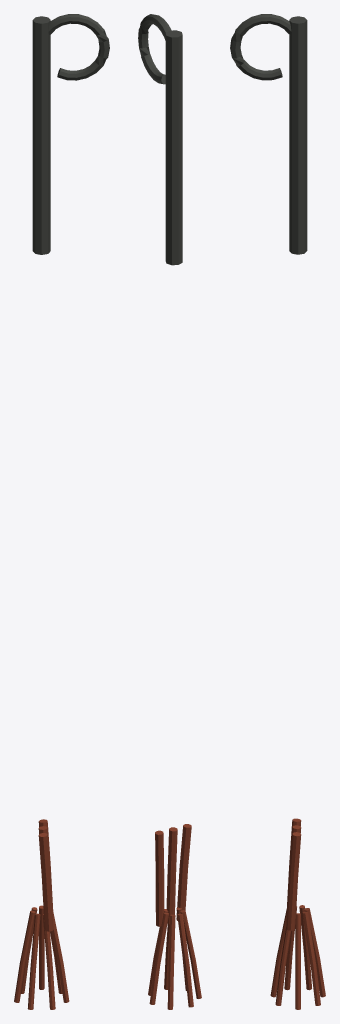
The model's file is lantern-hardware-lod0.fbx.
3 renders of one model, left to right at view 1: azimuth 90°, elevation 25°; view 2: azimuth 210°, elevation 25°; view 3: azimuth 270°, elevation 25°, orthographic.
Visible parts, largest first — view 1: Lantern suspension stem, Bent iron suspension hook, Braided lantern tail cord, Separate cloth tassel strands.004, Separate cloth tassel strands.005, Separate cloth tassel strands.003, Separate cloth tassel strands.002, Separate cloth tassel strands, Separate cloth tassel strands.006; view 2: Lantern suspension stem, Bent iron suspension hook, Braided lantern tail cord.002, Braided lantern tail cord.001, Braided lantern tail cord, Separate cloth tassel strands.006, Separate cloth tassel strands, Separate cloth tassel strands.005, Separate cloth tassel strands.004, Separate cloth tassel strands.002, Separate cloth tassel strands.001; view 3: Lantern suspension stem, Bent iron suspension hook, Braided lantern tail cord.002, Separate cloth tassel strands.006, Separate cloth tassel strands, Separate cloth tassel strands.001, Separate cloth tassel strands.005, Separate cloth tassel strands.004, Separate cloth tassel strands.002, Separate cloth tassel strands.003.
Part boxes in pixels (x1=…): Lantern suspension stem: x1=32, y1=16, x2=50, y2=254; Bent iron suspension hook: x1=48, y1=14, x2=109, y2=80; Braided lantern tail cord: x1=38, y1=833, x2=53, y2=931; Separate cloth tassel strands.004: x1=27, y1=913, x2=40, y2=1009; Separate cloth tassel strands.005: x1=14, y1=910, x2=35, y2=1002; Separate cloth tassel strands.003: x1=43, y1=914, x2=55, y2=1009; Separate cloth tassel strands.002: x1=51, y1=911, x2=69, y2=1002; Separate cloth tassel strands: x1=39, y1=905, x2=44, y2=989; Separate cloth tassel strands.006: x1=21, y1=907, x2=37, y2=993; Lantern suspension stem: x1=165, y1=30, x2=182, y2=265; Bent iron suspension hook: x1=138, y1=14, x2=171, y2=84; Braided lantern tail cord.002: x1=155, y1=830, x2=164, y2=926; Braided lantern tail cord.001: x1=166, y1=827, x2=177, y2=924; Braided lantern tail cord: x1=176, y1=824, x2=191, y2=920; Separate cloth tassel strands.006: x1=167, y1=914, x2=175, y2=1009; Separate cloth tassel strands: x1=149, y1=912, x2=168, y2=1004; Separate cloth tassel strands.005: x1=177, y1=913, x2=193, y2=1007; Separate cloth tassel strands.004: x1=180, y1=910, x2=201, y2=998; Separate cloth tassel strands.002: x1=164, y1=924, x2=169, y2=989; Separate cloth tassel strands.001: x1=148, y1=909, x2=168, y2=995; Lantern suspension stem: x1=289, y1=16, x2=307, y2=254; Bent iron suspension hook: x1=230, y1=14, x2=291, y2=80; Braided lantern tail cord.002: x1=286, y1=832, x2=301, y2=930; Separate cloth tassel strands.006: x1=302, y1=911, x2=320, y2=1005; Separate cloth tassel strands: x1=295, y1=913, x2=300, y2=1009; Separate cloth tassel strands.001: x1=275, y1=927, x2=290, y2=1005; Separate cloth tassel strands.005: x1=304, y1=908, x2=325, y2=997; Separate cloth tassel strands.004: x1=299, y1=905, x2=311, y2=990; Separate cloth tassel strands.002: x1=270, y1=909, x2=286, y2=997; Separate cloth tassel strands.003: x1=284, y1=906, x2=296, y2=990.
Bounding box in the file's own units: 3.61 × 72.46 × 6.39.
